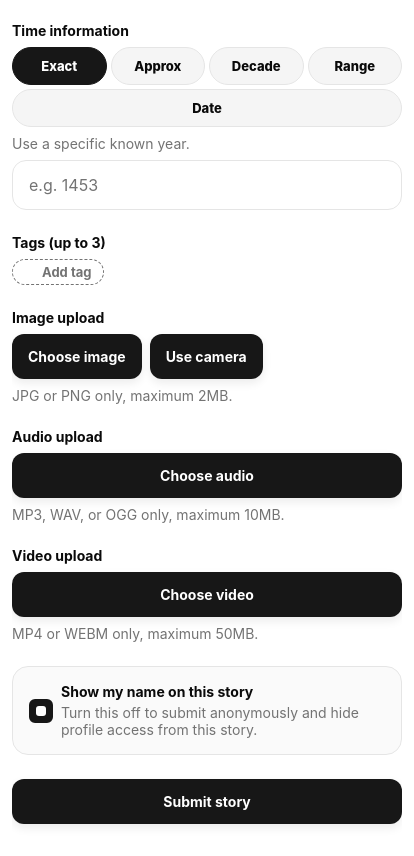
SubmissionScreen › shows inline validation errors when required fields are missing
(page scrolled)
Click the button "Submit story".
click(207, 802)  # box top-left (12, 779), bottom-right (402, 824)
(page scrolled)
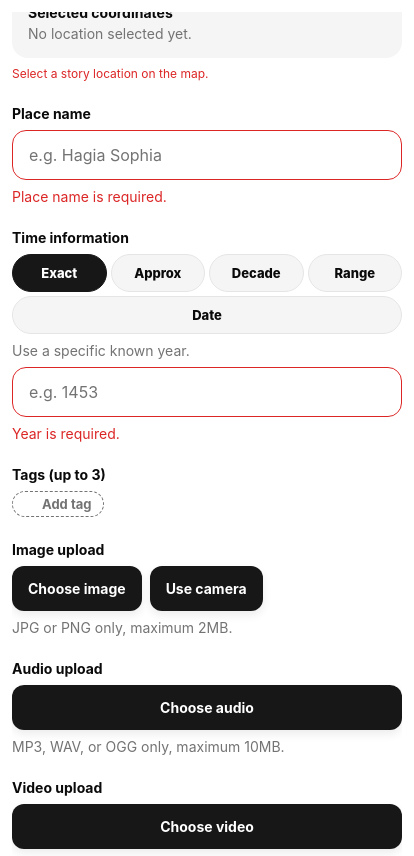
Expected: the text "Select a story location on the map." is shown, top-left (12, 66), bottom-right (208, 81)
Expected: the text "Place name is required." is shown, top-left (12, 188), bottom-right (167, 205)
Expected: the text "Year is required." is shown, top-left (12, 425), bottom-right (120, 442)
